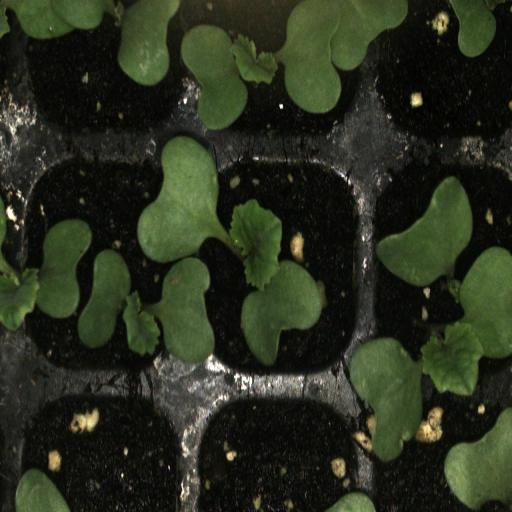Folha: (180, 0, 408, 132), (0, 0, 192, 86), (444, 406, 512, 512), (449, 0, 496, 58), (14, 468, 70, 512)
Germinacao: (8, 141, 196, 379), (193, 148, 366, 387), (365, 146, 512, 390)
